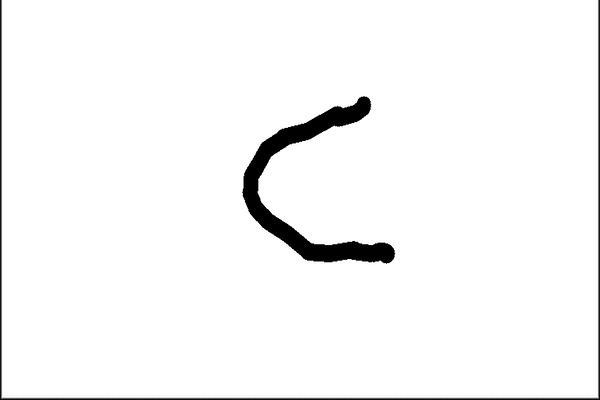C: (237, 91, 402, 266)
